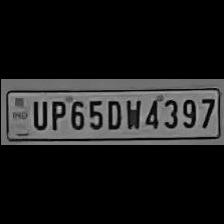3: (161, 95, 179, 129)
4: (142, 95, 160, 129)
5: (84, 96, 104, 130)
6: (65, 97, 84, 130)
7: (198, 94, 216, 130)
9: (178, 96, 196, 128)
D: (104, 96, 122, 130)
P: (46, 97, 66, 130)
U: (27, 97, 47, 130)
W: (122, 96, 142, 130)
